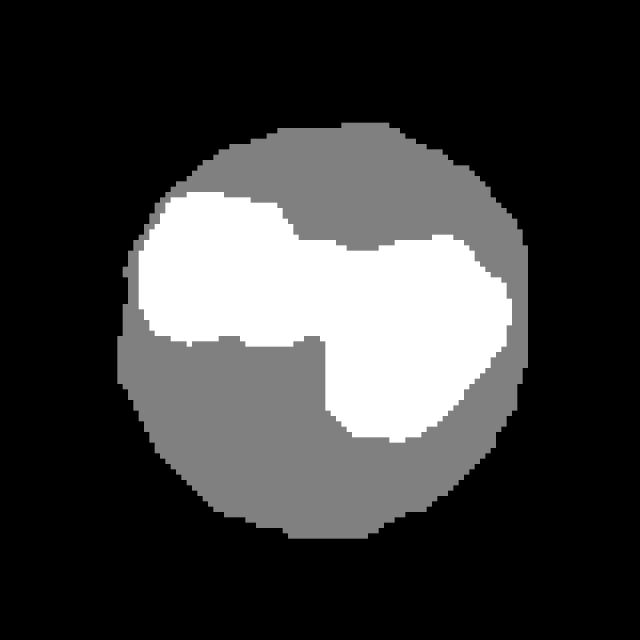WBC: (112, 96, 555, 565)
